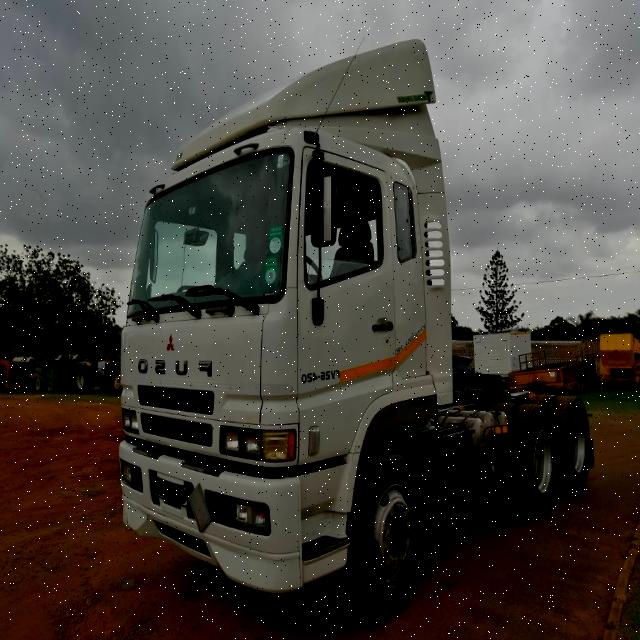truck: (121, 35, 595, 616)
